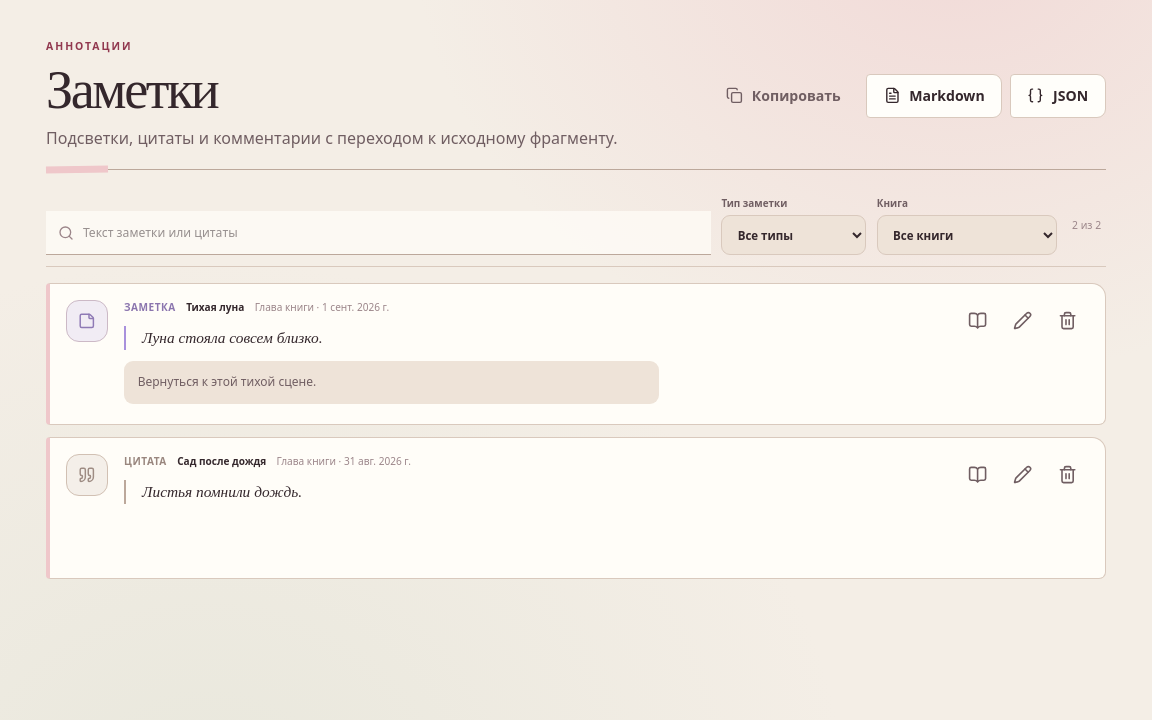
Scenario: notes page › edits and deletes a persisted annotation
The width and height of the screenshot is (1152, 720).
Expected: the text "Вернуться к этой тихой сцене." is shown, x1=124 y1=361 x2=660 y2=404
Click the button named "Редактировать заметку: Луна стояла совсем близко." at [1023, 321], box x1=1002 y1=300 x2=1044 y2=342
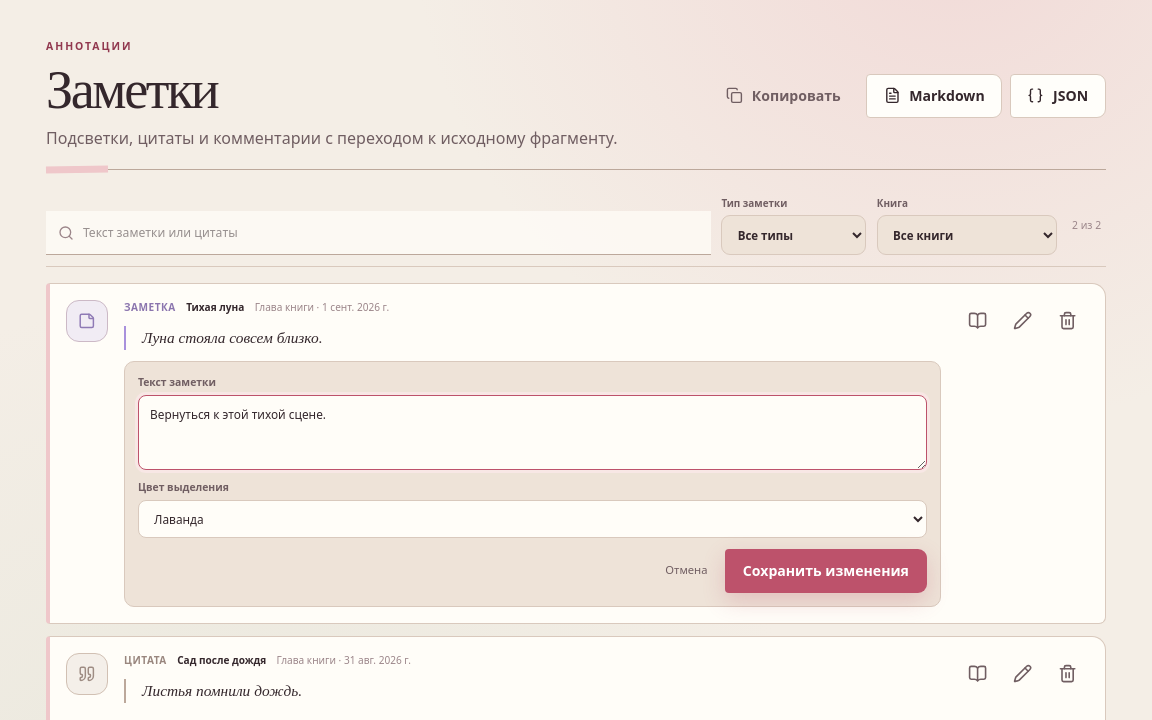
Replace the text in the text box labelled "Текст заметки" with "Новая мысль о лунном свете." at [532, 432], box x1=138 y1=395 x2=927 y2=470
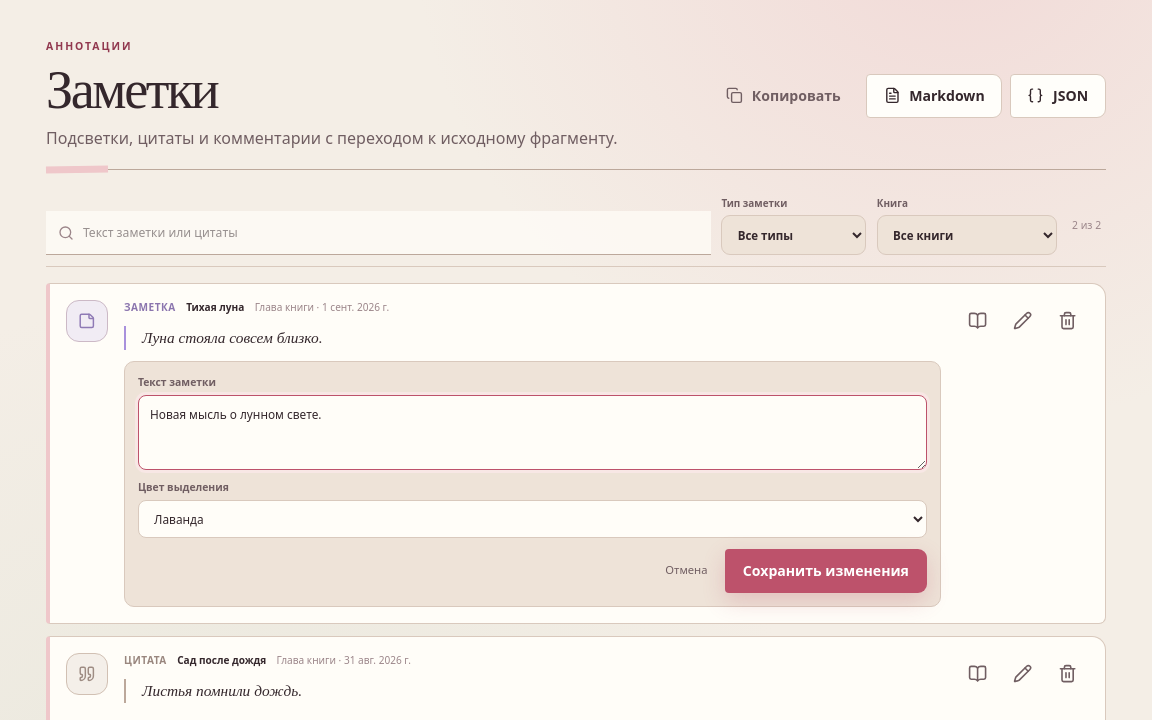
Click the button "Сохранить изменения" at [826, 571], box x1=725 y1=549 x2=927 y2=593
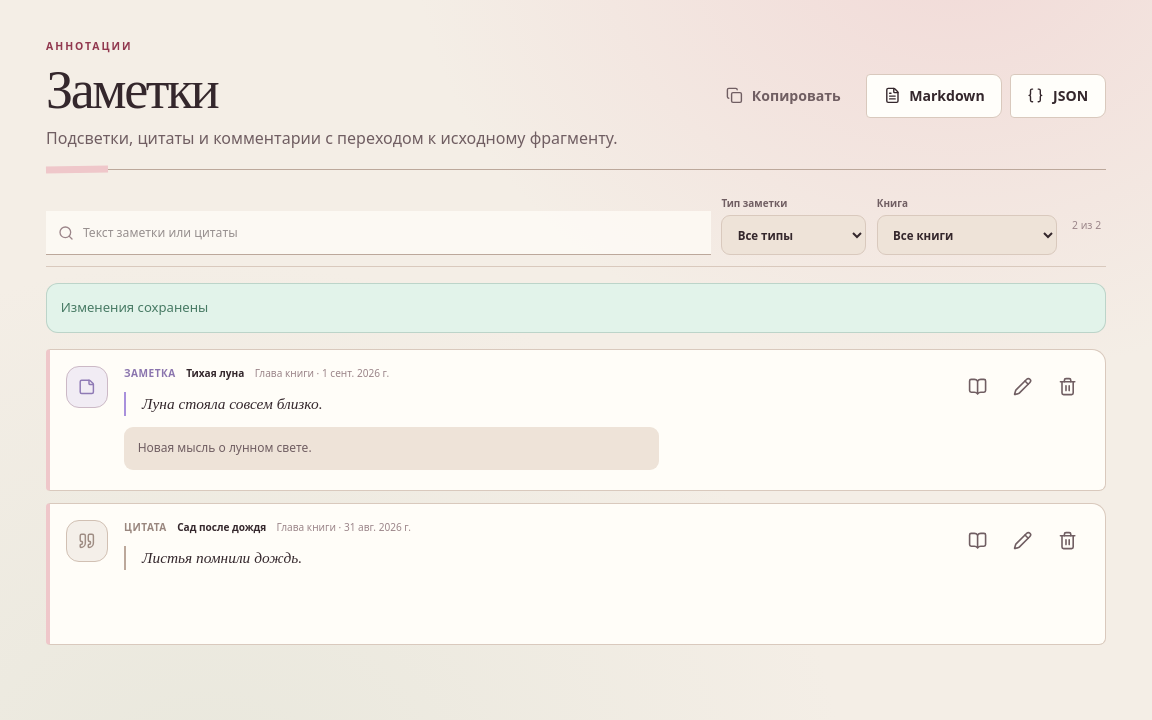
Expected: the text "Новая мысль о лунном свете." is shown, x1=124 y1=427 x2=660 y2=470
Click the button named "Удалить заметку: Луна стояла совсем близко." at [1068, 387], box x1=1047 y1=366 x2=1089 y2=408
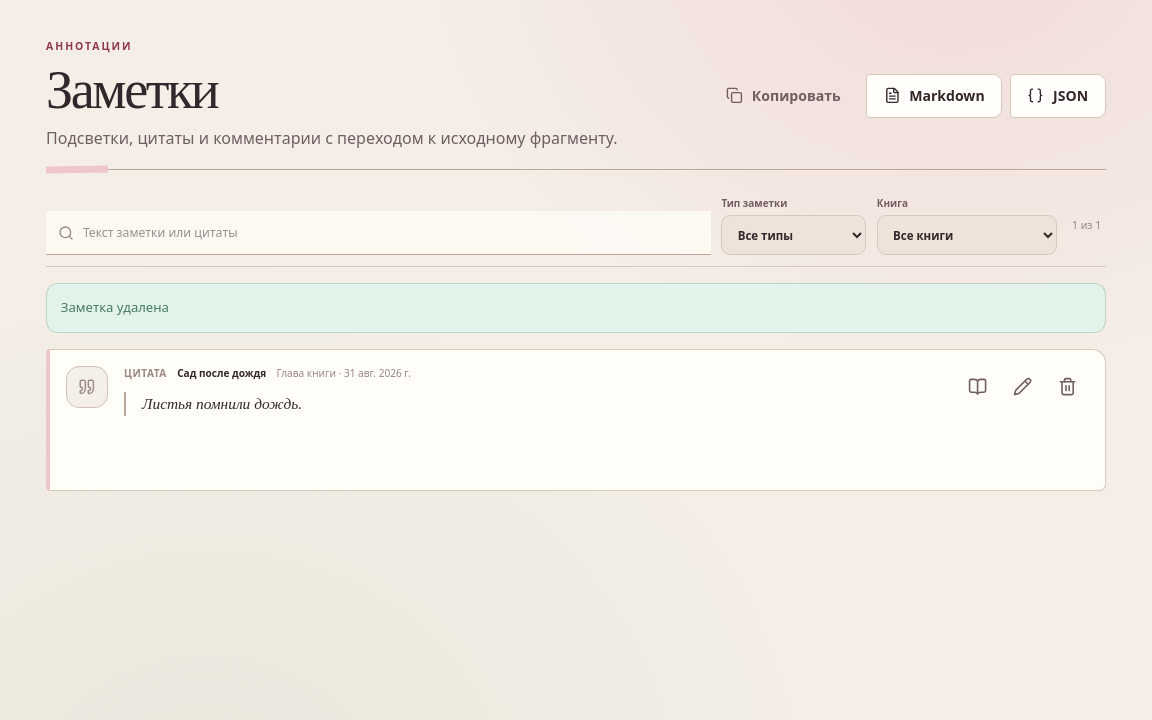
Expected: the text "Новая мысль о лунном свете." is gone
